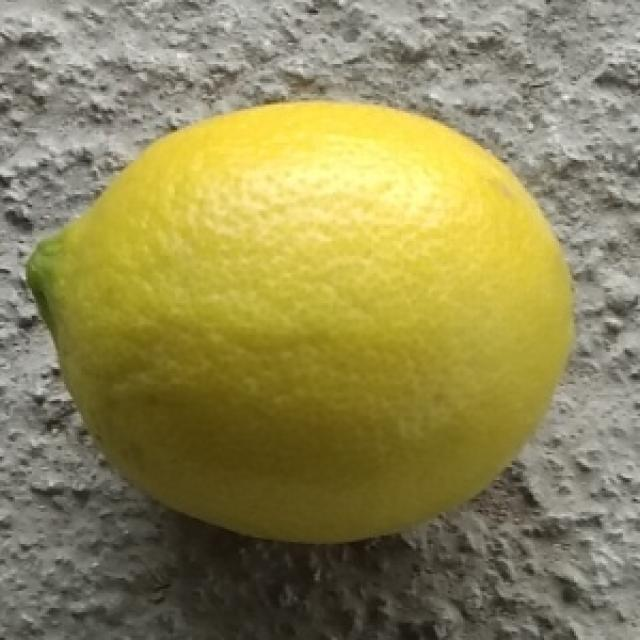Ripe: (19, 94, 582, 553)
